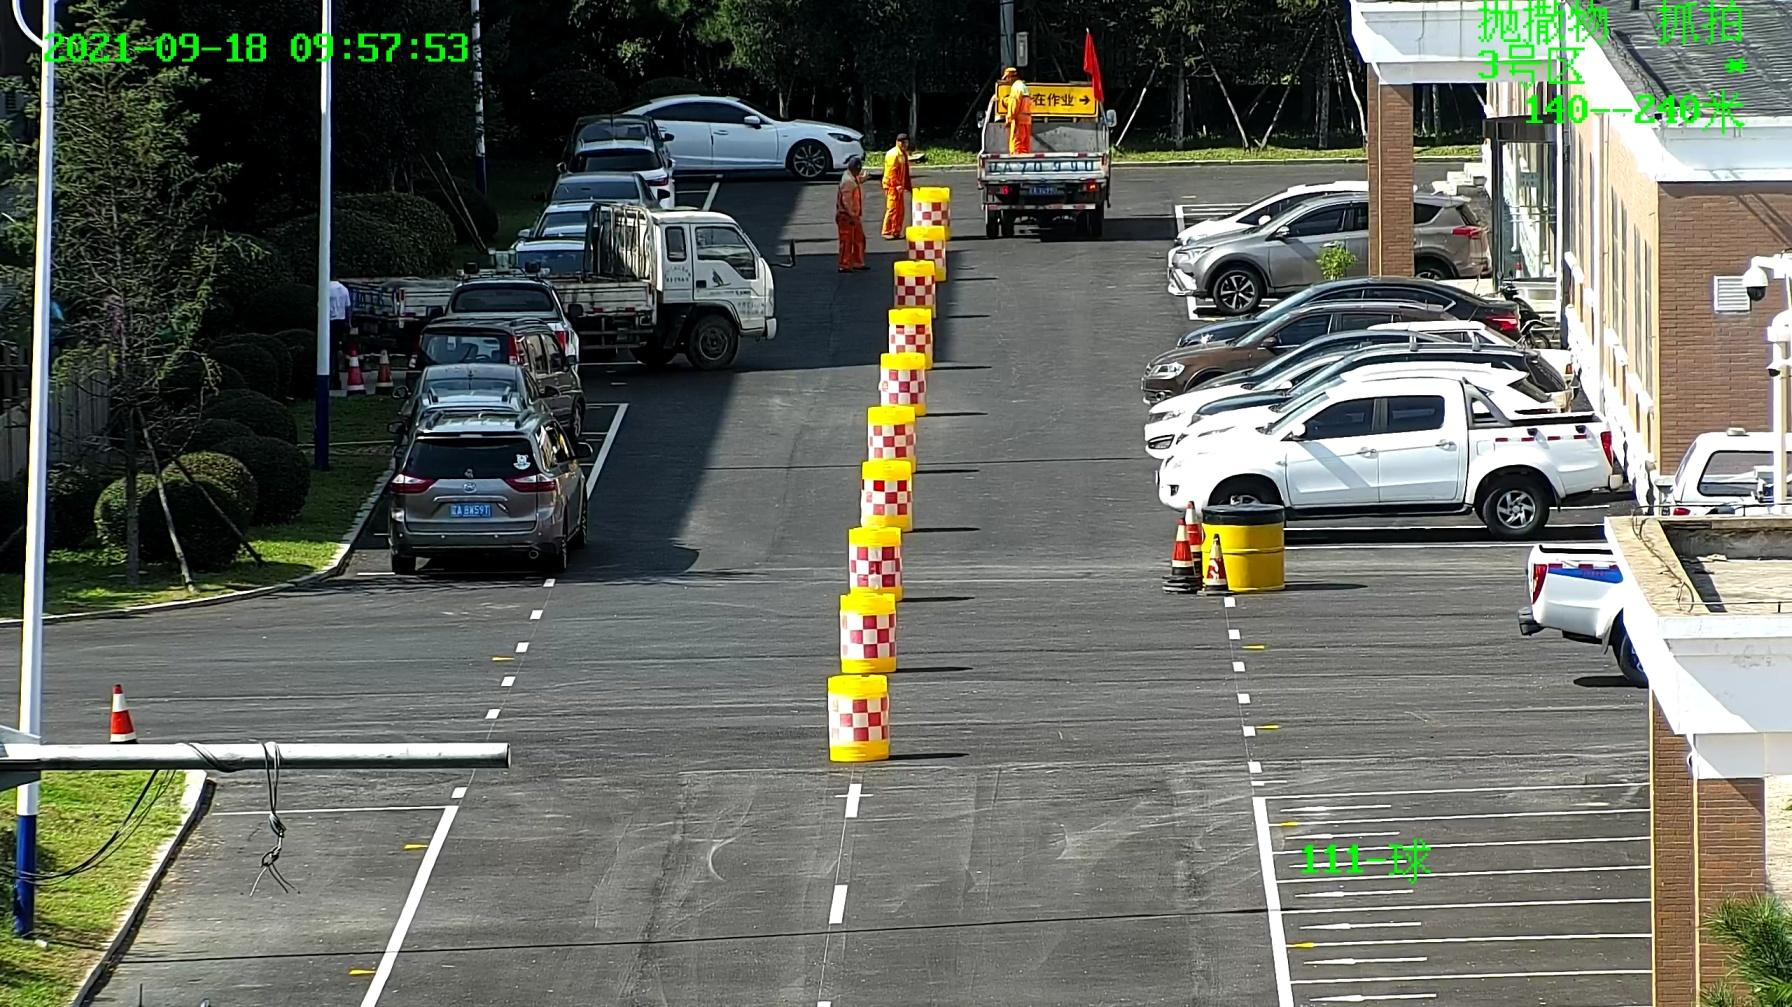cone_barrel: (827, 675, 889, 764), (839, 588, 894, 673), (847, 529, 898, 603), (858, 460, 910, 531), (864, 403, 914, 462), (876, 355, 926, 415), (885, 310, 930, 362), (891, 263, 934, 313), (908, 225, 945, 279), (908, 190, 946, 228)
